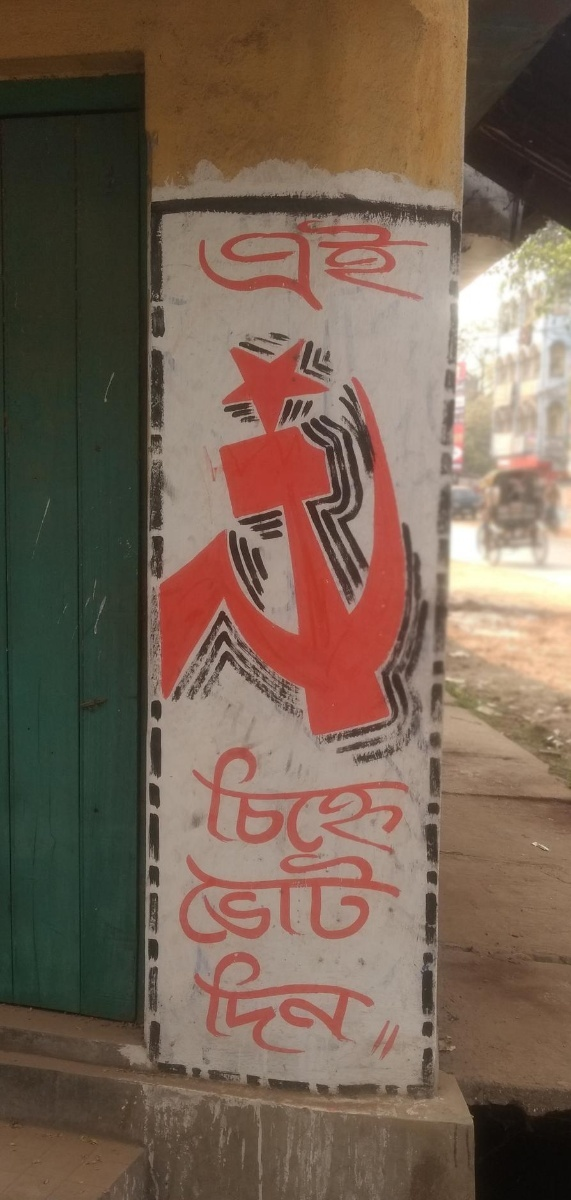text: (177, 740, 192, 863), (193, 740, 208, 863), (209, 740, 224, 863), (225, 740, 240, 863), (241, 740, 256, 863), (257, 740, 272, 863), (273, 740, 288, 863), (289, 740, 304, 863), (305, 740, 320, 863), (321, 740, 336, 863), (337, 740, 352, 863), (353, 740, 368, 863), (369, 740, 384, 863), (385, 740, 400, 863), (401, 740, 416, 863), (193, 945, 208, 1062), (209, 945, 224, 1062), (225, 945, 240, 1062), (241, 945, 256, 1062), (257, 945, 272, 1062), (273, 945, 288, 1062), (289, 945, 304, 1062), (305, 945, 320, 1062), (321, 945, 336, 1062), (337, 945, 352, 1062), (353, 945, 368, 1062), (369, 945, 384, 1062), (385, 945, 400, 1062), (177, 846, 192, 949), (193, 846, 208, 949), (209, 846, 224, 949), (225, 846, 240, 949), (241, 846, 256, 949), (257, 846, 272, 949), (273, 846, 288, 949), (289, 846, 304, 949), (305, 846, 320, 949), (321, 846, 336, 949), (337, 846, 352, 949), (353, 846, 368, 949), (369, 846, 384, 949), (385, 846, 400, 949), (209, 215, 224, 314), (225, 215, 240, 314), (241, 215, 256, 314), (257, 215, 272, 314), (273, 215, 288, 314), (289, 215, 304, 314), (305, 215, 320, 314), (321, 215, 336, 314), (337, 215, 352, 314), (353, 215, 368, 314), (369, 215, 384, 314), (385, 215, 400, 314), (401, 215, 416, 314), (417, 215, 432, 314), (195, 215, 208, 314), (401, 945, 412, 1062), (417, 740, 423, 863), (172, 846, 176, 949), (401, 846, 405, 949), (433, 215, 434, 314)
